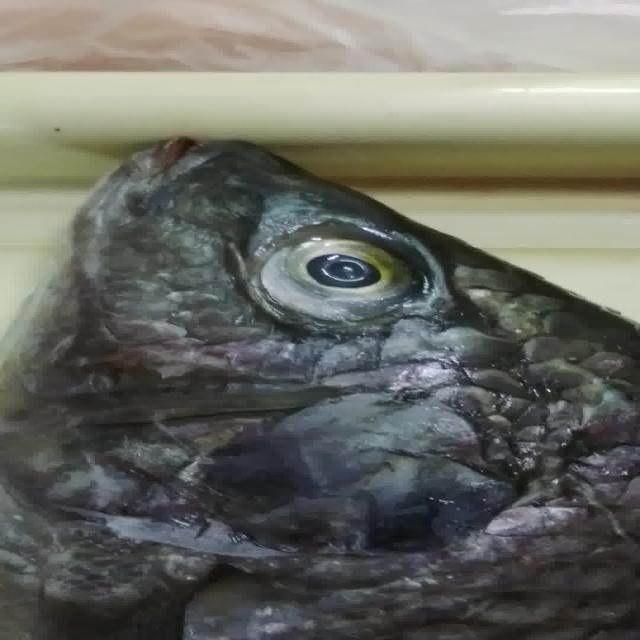Non-Fresh: (241, 206, 429, 334)
